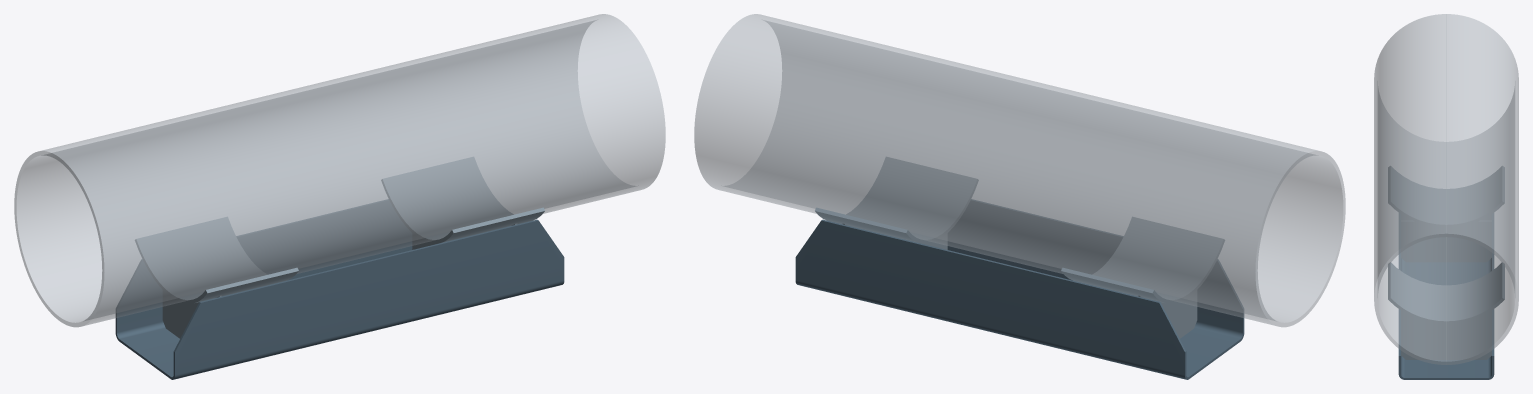
The model's file is TS-624.000-078-opora-dn273-H100-L680.glb.
3 views of the same model, side by side, from view 1: azimuth 30°, elevation 25°; view 2: azimuth 150°, elevation 25°; view 3: azimuth 270°, elevation 25° (orthographic). The views are drawn at different scales.
Parts seen in each view (by area): view 1: truba, skoba, podushka_0, podushka_1, rebro3_0; view 2: truba, skoba, podushka_0, podushka_1, rebro3_0; view 3: truba, podushka_1, podushka_0, skoba, rebro3_1, rebro4_0.
Boxes of the visible parts, x1=… form: truba: x1=14, y1=14, x2=665, y2=327; skoba: x1=115, y1=199, x2=564, y2=379; podushka_0: x1=135, y1=217, x2=298, y2=303; podushka_1: x1=381, y1=157, x2=544, y2=243; rebro3_0: x1=162, y1=291, x2=221, y2=338; truba: x1=694, y1=14, x2=1345, y2=327; skoba: x1=795, y1=199, x2=1244, y2=379; podushka_0: x1=1061, y1=217, x2=1224, y2=303; podushka_1: x1=815, y1=157, x2=978, y2=243; rebro3_0: x1=1138, y1=291, x2=1197, y2=338; truba: x1=1374, y1=14, x2=1518, y2=364; podushka_1: x1=1388, y1=262, x2=1504, y2=323; podushka_0: x1=1388, y1=166, x2=1504, y2=227; skoba: x1=1398, y1=213, x2=1494, y2=379; rebro3_1: x1=1401, y1=311, x2=1491, y2=359; rebro4_0: x1=1401, y1=221, x2=1491, y2=262.
Size of the model in its own units: 980 by 374 by 273.
